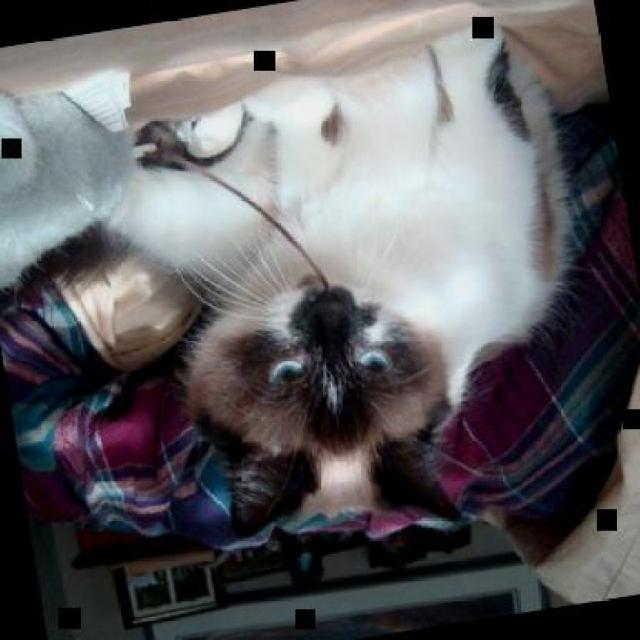cat: (117, 13, 615, 561)
